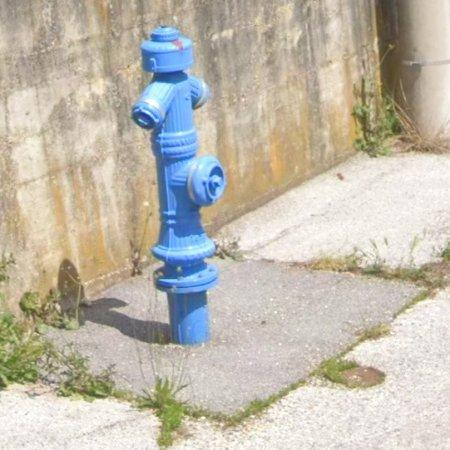a fire hydrant: (131, 25, 227, 345)
